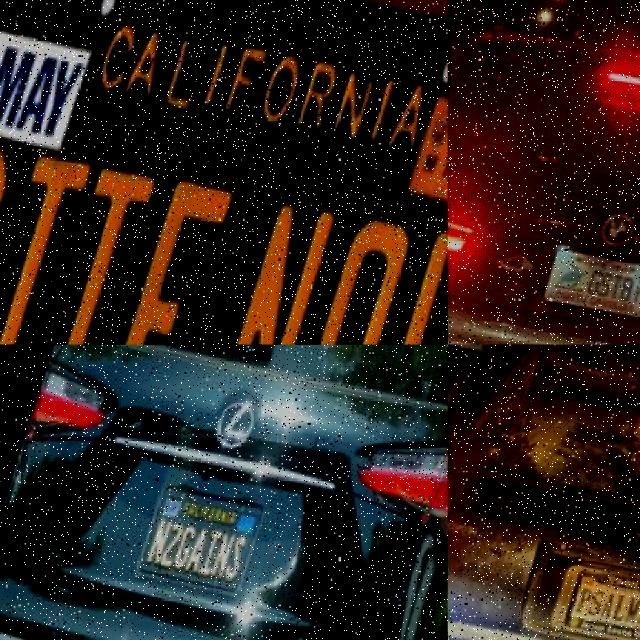licenseplate: (0, 110, 448, 344), (140, 477, 277, 605), (547, 252, 640, 322), (568, 572, 640, 640)
